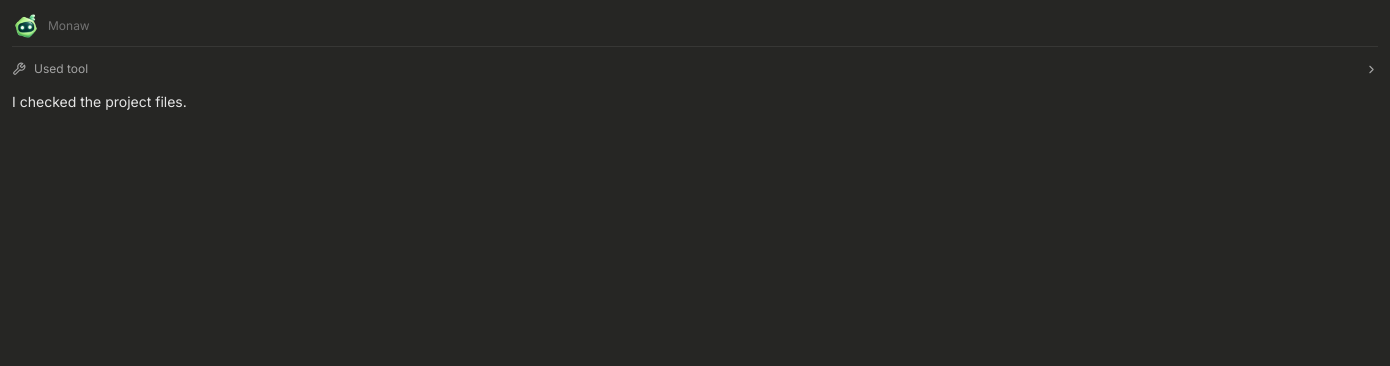
it: legacy chat messages › loads and expands an old saved tool message without Run metadata
Step 1. Click the button "Used tool" → (61, 68), box 12,57 -> 1378,81
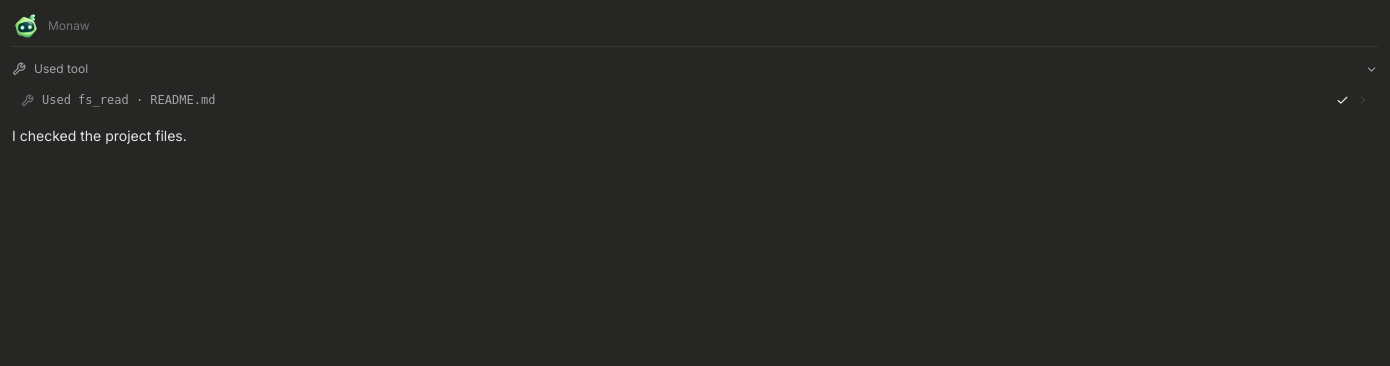
Now the list named "Tool calls" is shown
Step 2. Click the button "Used fs_read · README.md" → (129, 100), box 13,86 -> 1377,114
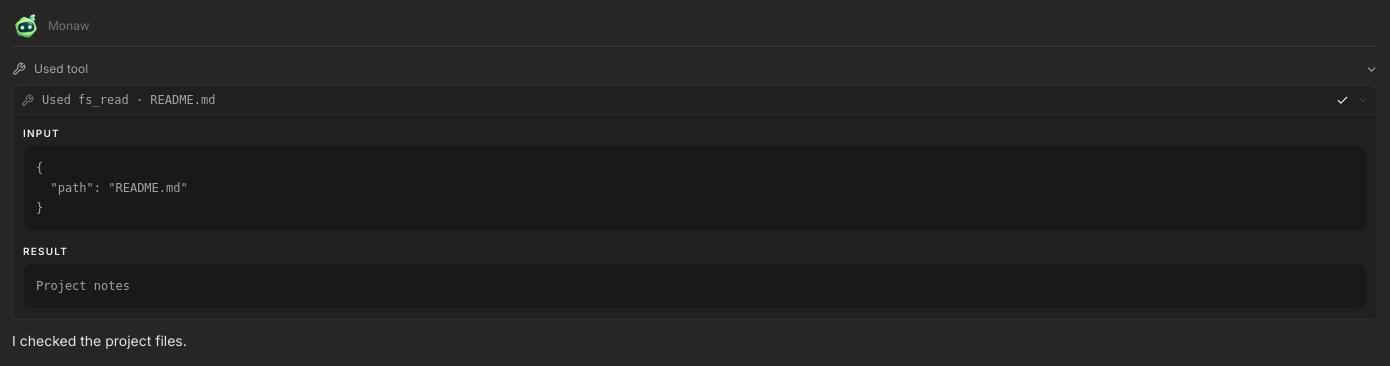
Now the text "Project notes" is shown, box 23,263 -> 1367,309
